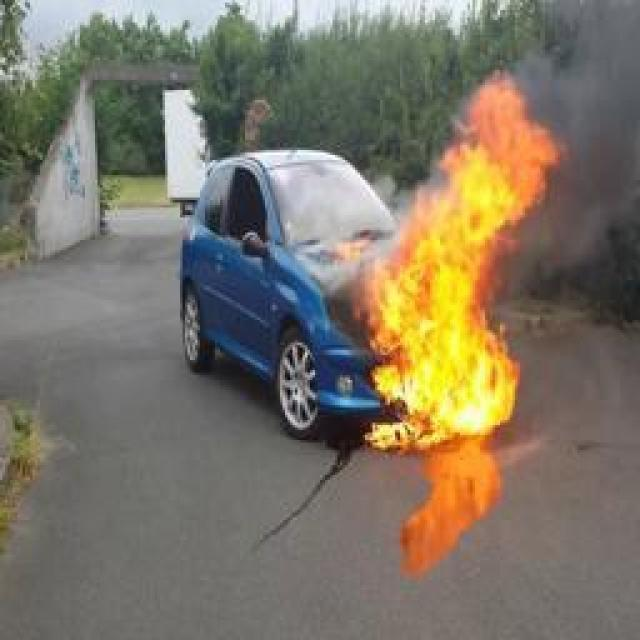Fire: (358, 71, 568, 439)
